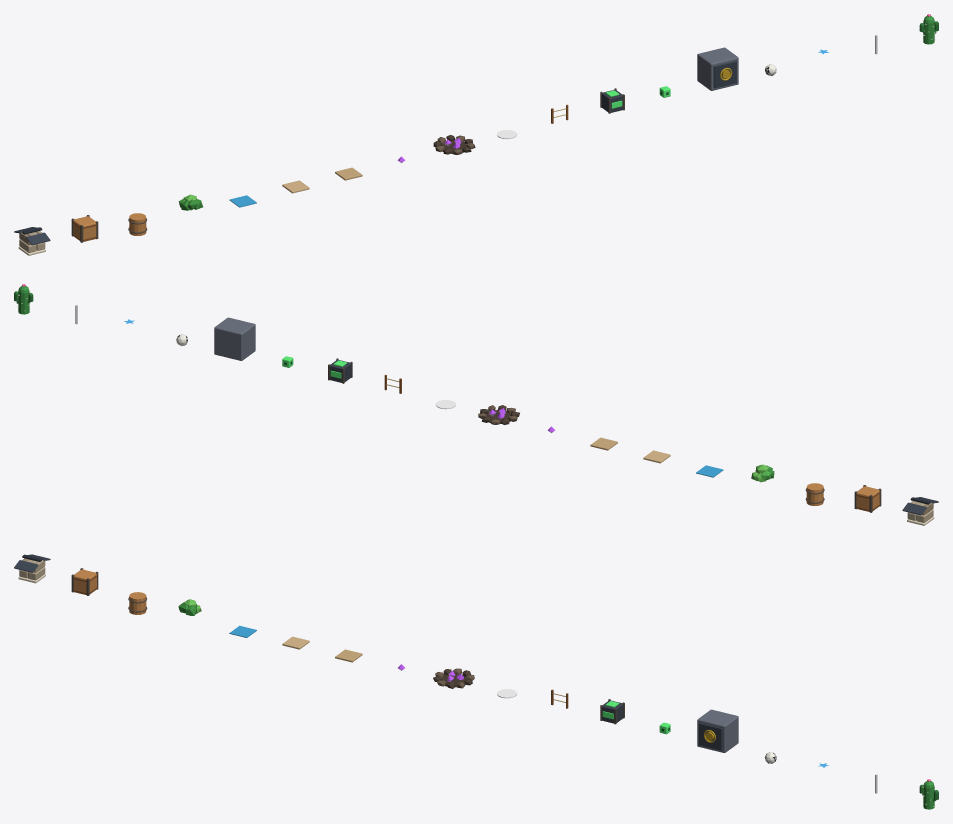
Rendered from kit.glb.
The picture shows the model from 3 angles, top to bottom: view 1: azimuth 30°, elevation 25°; view 2: azimuth 150°, elevation 25°; view 3: azimuth 330°, elevation 25°; orthographic projection.
Visible parts, largest first — view 1: safe, wall, mine, crate; view 2: safe, wall, mine, crate; view 3: safe, wall, mine, crate.
Part boxes in pixels (left/top/right/bottom): safe: left=697, top=47, right=738, bottom=90; wall: left=14, top=227, right=50, bottom=255; mine: left=433, top=135, right=475, bottom=154; crate: left=71, top=215, right=98, bottom=242; safe: left=214, top=317, right=255, bottom=360; wall: left=902, top=497, right=938, bottom=525; mine: left=478, top=405, right=519, bottom=424; crate: left=854, top=485, right=881, bottom=512; safe: left=697, top=709, right=738, bottom=752; wall: left=14, top=554, right=50, bottom=583; mine: left=433, top=668, right=474, bottom=688; crate: left=71, top=568, right=98, bottom=595.
Bounding box in the file's own units: 52.08 × 2.07 × 2.01.
